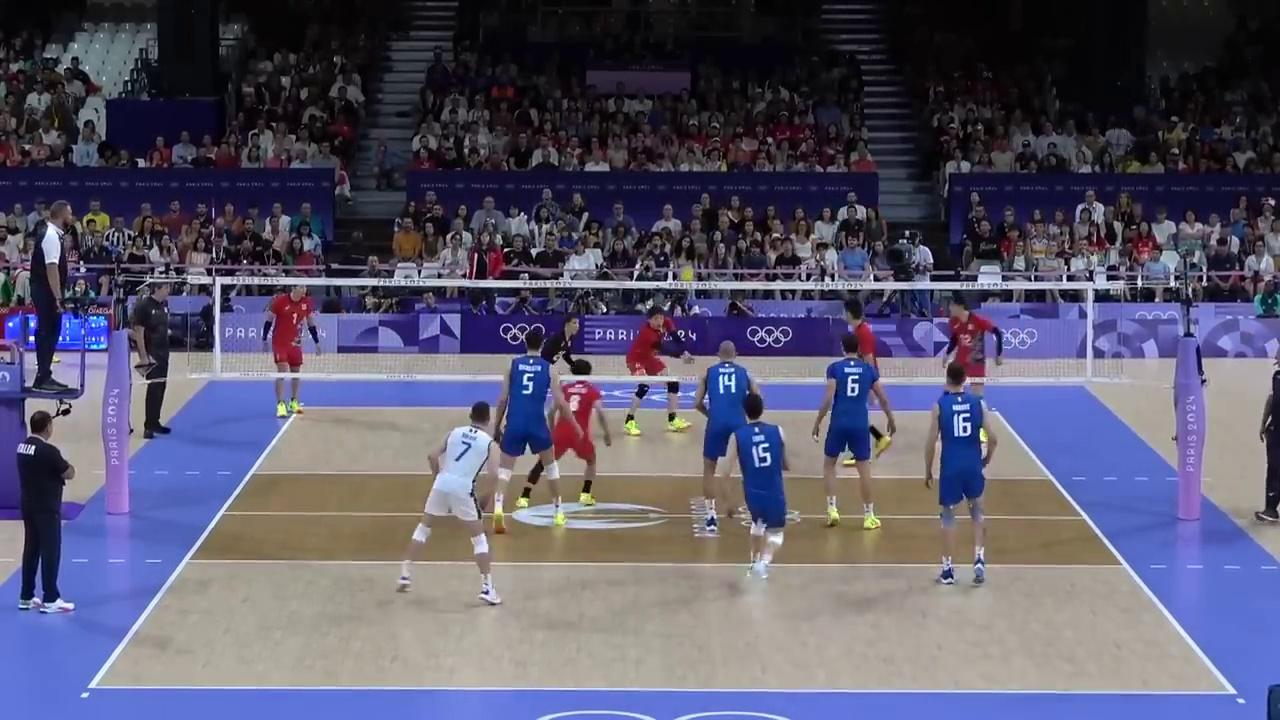ball: (678, 266, 695, 283)
